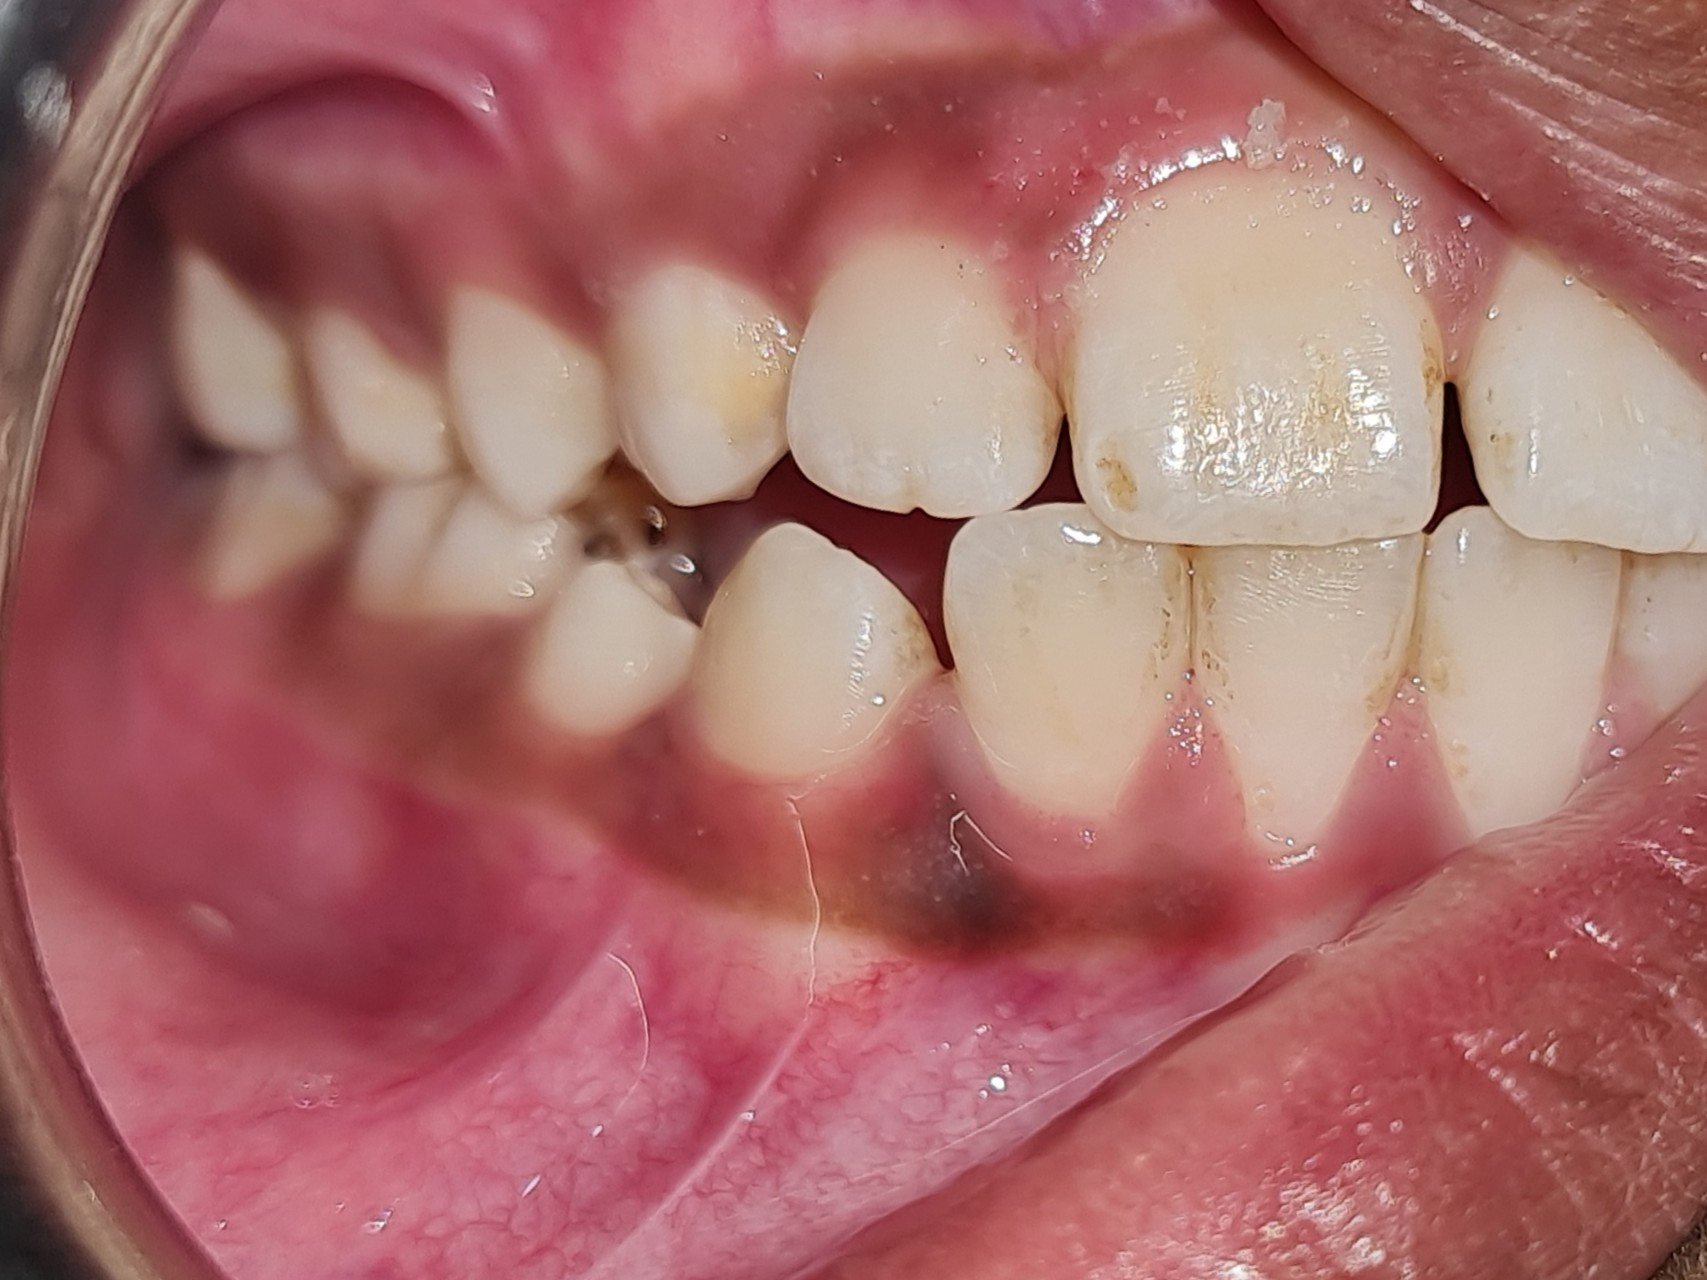D: (337, 490, 670, 626)
